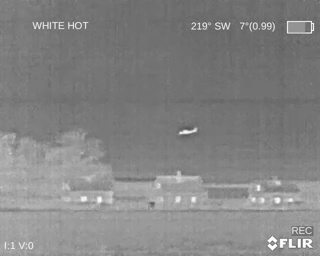AIRPLANE: (177, 126, 199, 137)
